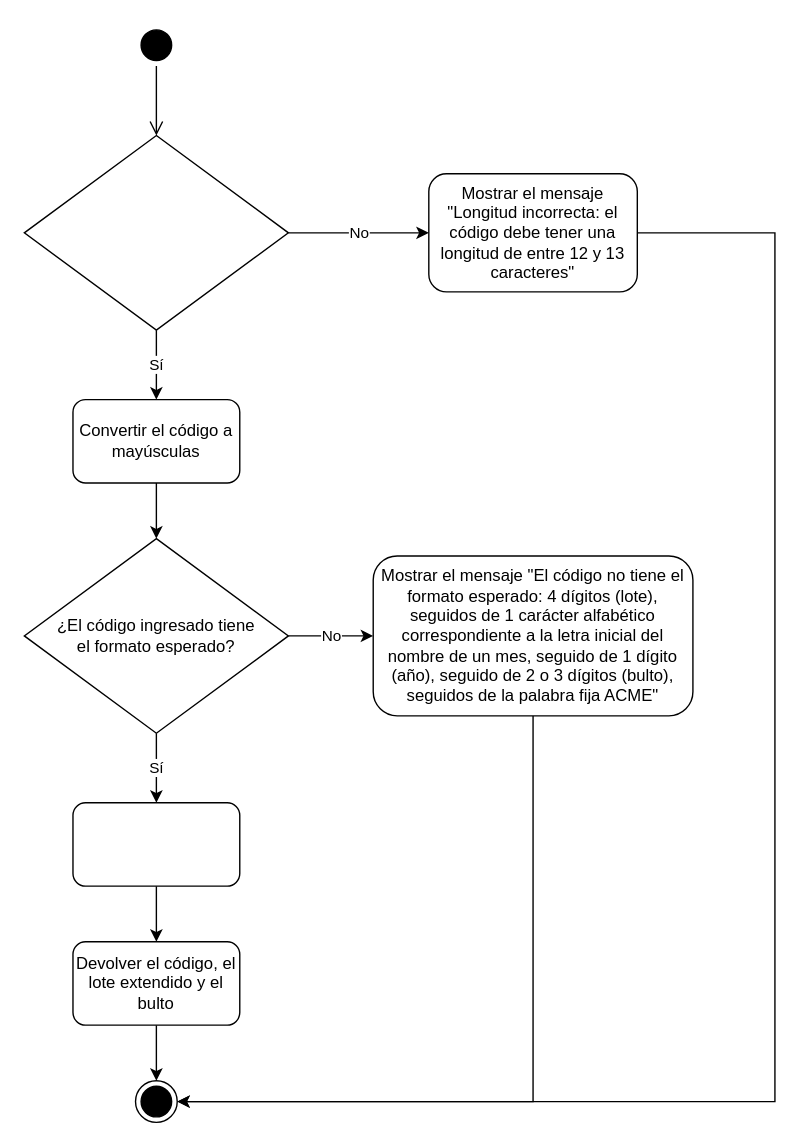
This 810x1147 diagram has some shape labels left out. The centre of each missing label's shape, as x and y in pixels:
Extraer el lote extendido y el bulto del código: point (156, 843)
¿El código ingresado tiene una longitud de entre 12 y 13 caracteres?: point (155, 232)
